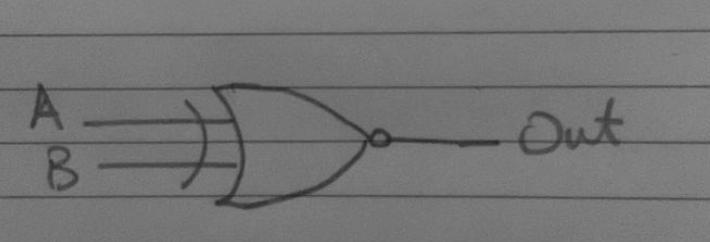XNOR: (169, 64, 392, 223)
